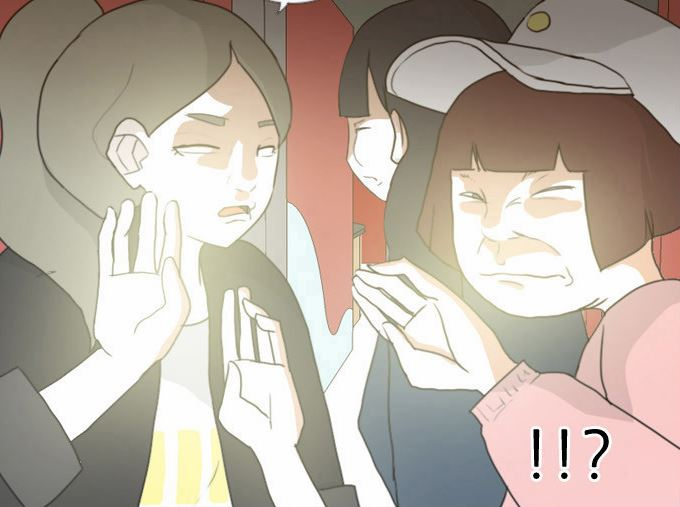hat: (386, 4, 680, 112)
